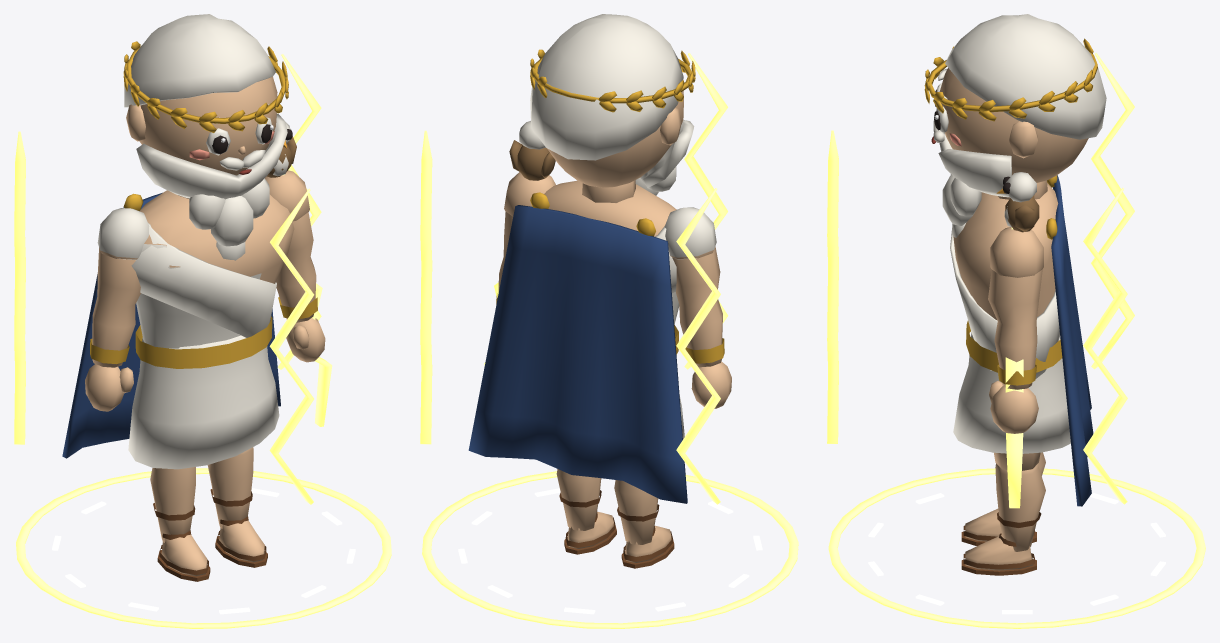
The model's file is zeus.glb.
3 views of the same model, side by side, from view 1: azimuth 30°, elevation 25°; view 2: azimuth 150°, elevation 25°; view 3: azimuth 270°, elevation 25° (orthographic).
Visible parts, largest first — view 1: rumpf, huefte, haare, bart, armL, kopf, vfx_aura, armR, umhang, knieL, knieR, vfx_blitz_1 (+5 smaller); view 2: umhang, haare, armL, vfx_aura, kopf, rumpf, vfx_blitz_0, knieL, knieR, vfx_blitz_1, kopfschmuck, begleiter (+3 smaller); view 3: haare, rumpf, armR, vfx_aura, kopf, huefte, umhang, knieR, bart, vfx_blitz_2, vfx_blitz_0, vfx_blitz_1 (+4 smaller).
Part boxes in pixels (x1,y1,x2,y2): rumpf: [131, 190, 294, 368]; huefte: [128, 335, 279, 469]; haare: [124, 14, 275, 107]; bart: [136, 114, 287, 260]; armL: [85, 208, 149, 411]; kopf: [126, 76, 277, 198]; vfx_aura: [16, 468, 391, 628]; armR: [265, 170, 325, 362]; umhang: [62, 192, 280, 458]; knieL: [150, 467, 210, 581]; knieR: [207, 447, 267, 567]; vfx_blitz_1: [14, 131, 25, 444]; umhang: [468, 192, 687, 503]; haare: [530, 14, 683, 160]; armL: [664, 207, 731, 408]; vfx_aura: [422, 471, 798, 628]; kopf: [547, 91, 683, 202]; rumpf: [544, 180, 679, 354]; vfx_blitz_0: [420, 130, 432, 444]; knieL: [614, 480, 674, 568]; knieR: [556, 469, 616, 554]; vfx_blitz_1: [676, 188, 720, 504]; kopfschmuck: [530, 49, 695, 112]; begleiter: [509, 121, 555, 180]; haare: [945, 14, 1106, 139]; rumpf: [950, 183, 1062, 378]; armR: [988, 227, 1043, 433]; vfx_aura: [828, 468, 1205, 628]; kopf: [939, 68, 1088, 199]; huefte: [953, 332, 1070, 453]; umhang: [1046, 175, 1093, 506]; knieR: [961, 463, 1045, 575]; bart: [933, 120, 1011, 237]; vfx_blitz_2: [827, 130, 838, 443]; vfx_blitz_0: [1083, 187, 1127, 504]; vfx_blitz_1: [1091, 52, 1134, 369].
Size of the model in its own units: 1.48 by 2.3 by 1.48.
